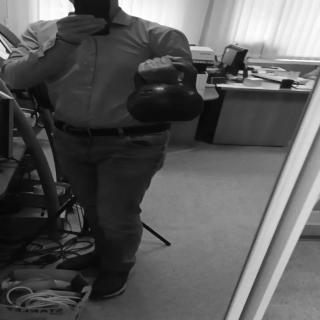girya: (128, 60, 205, 123)
